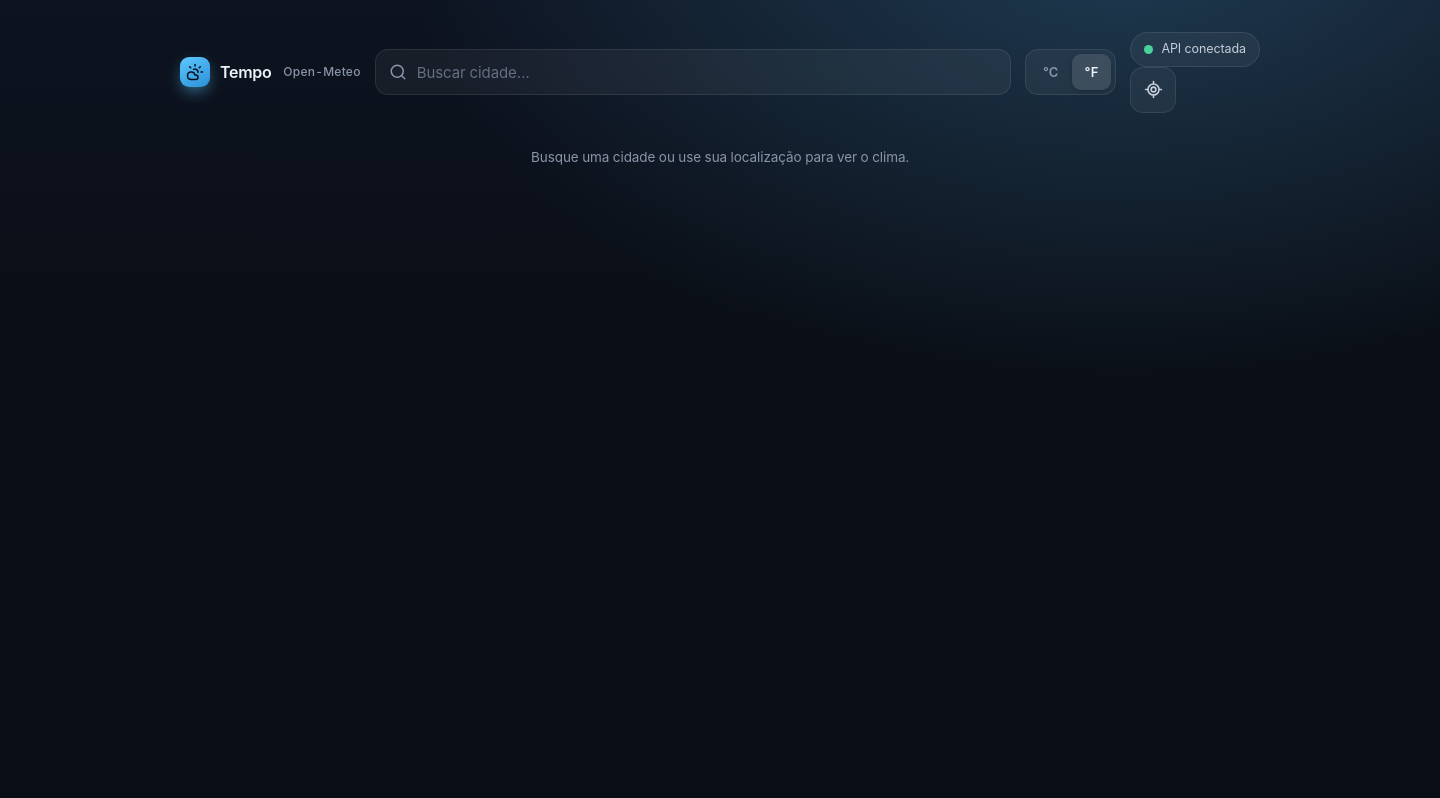
it: WeatherDashboardPage units toggle › toggles a loaded dashboard back to metric instantly
Type "London" into the dropdown at (707, 72), box [417,50,997,94]
Wait 240 ms
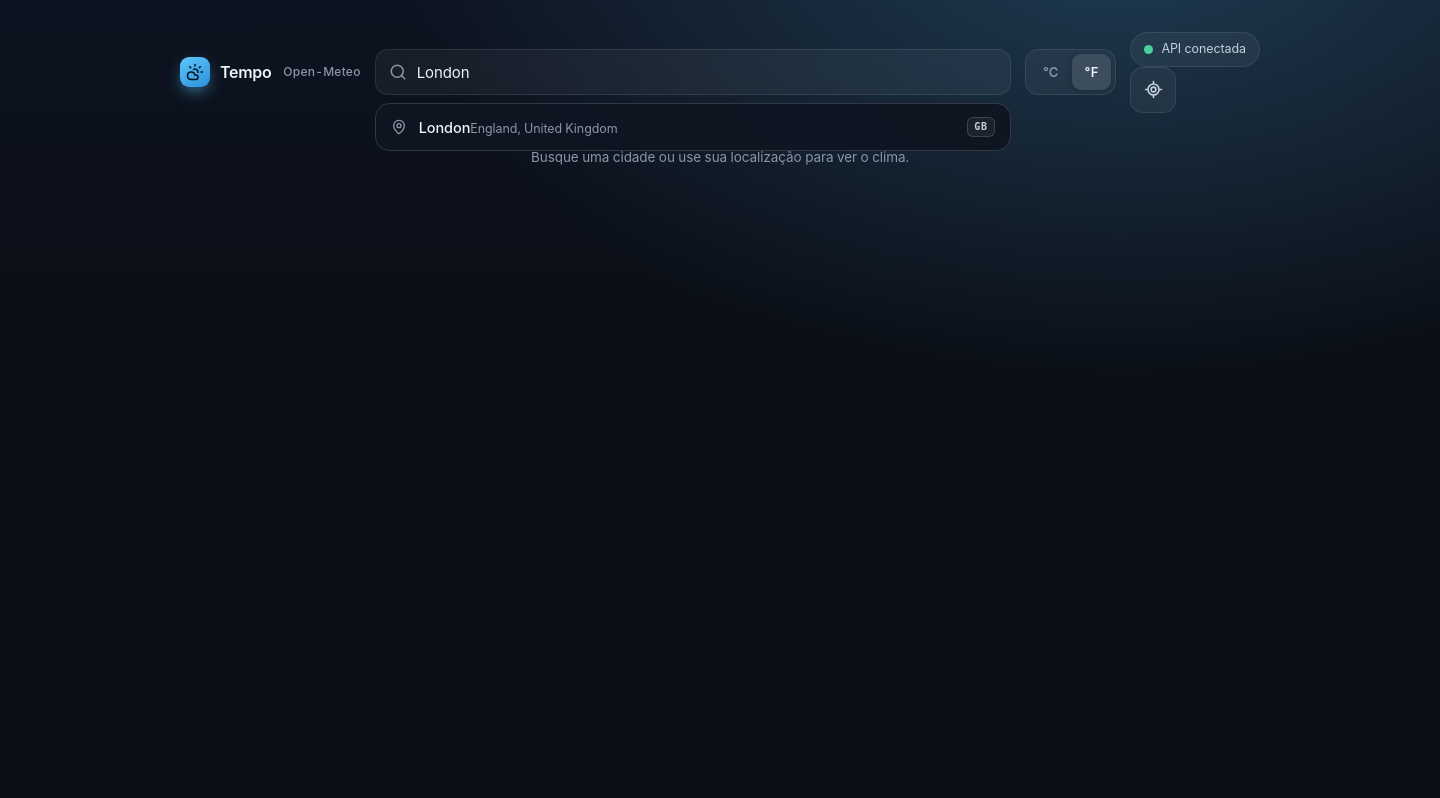
Press the mouse on the option at (444, 128), box [376,104,1010,150]
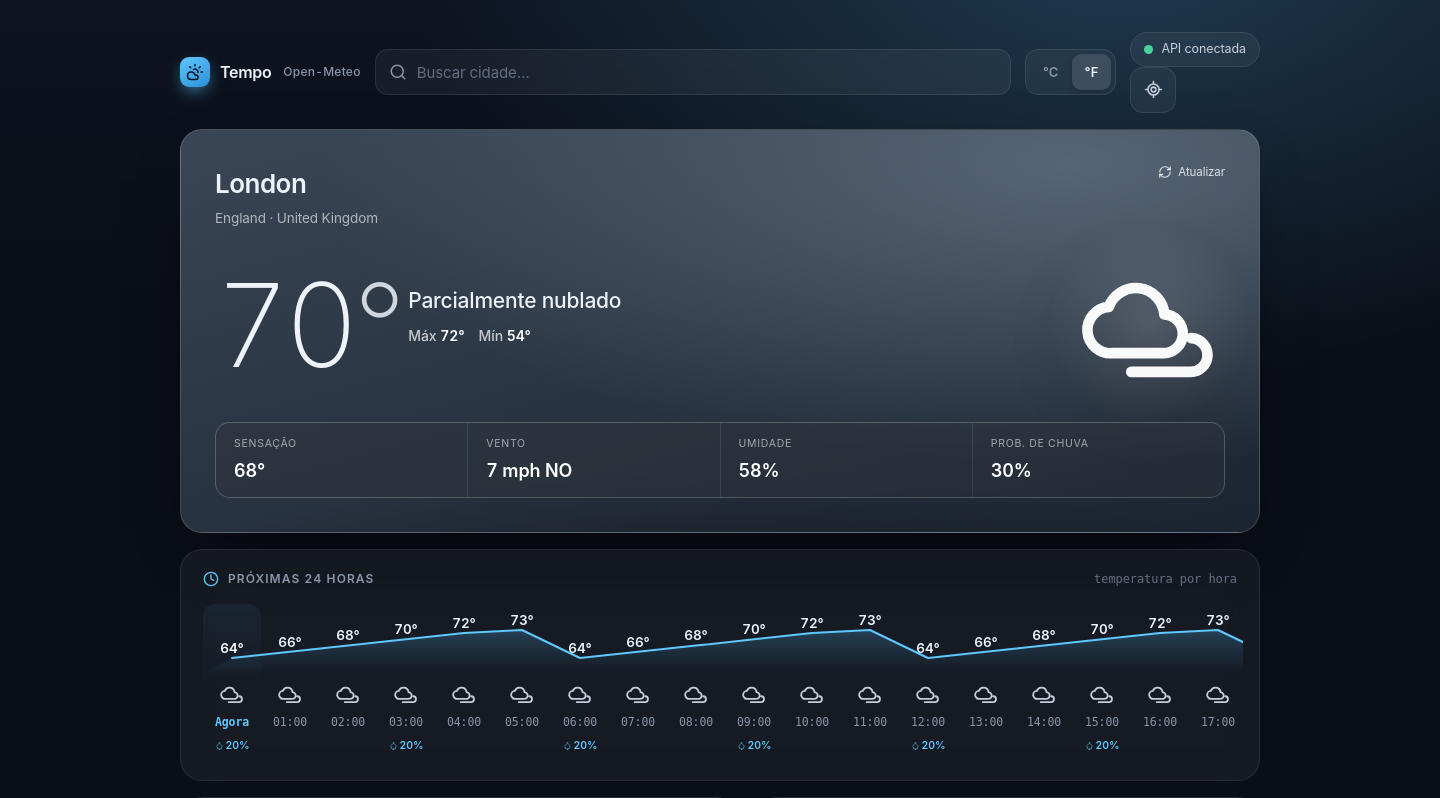
Click the button "°C" at (1051, 72), box [1030,54,1072,90]
(page scrolled)
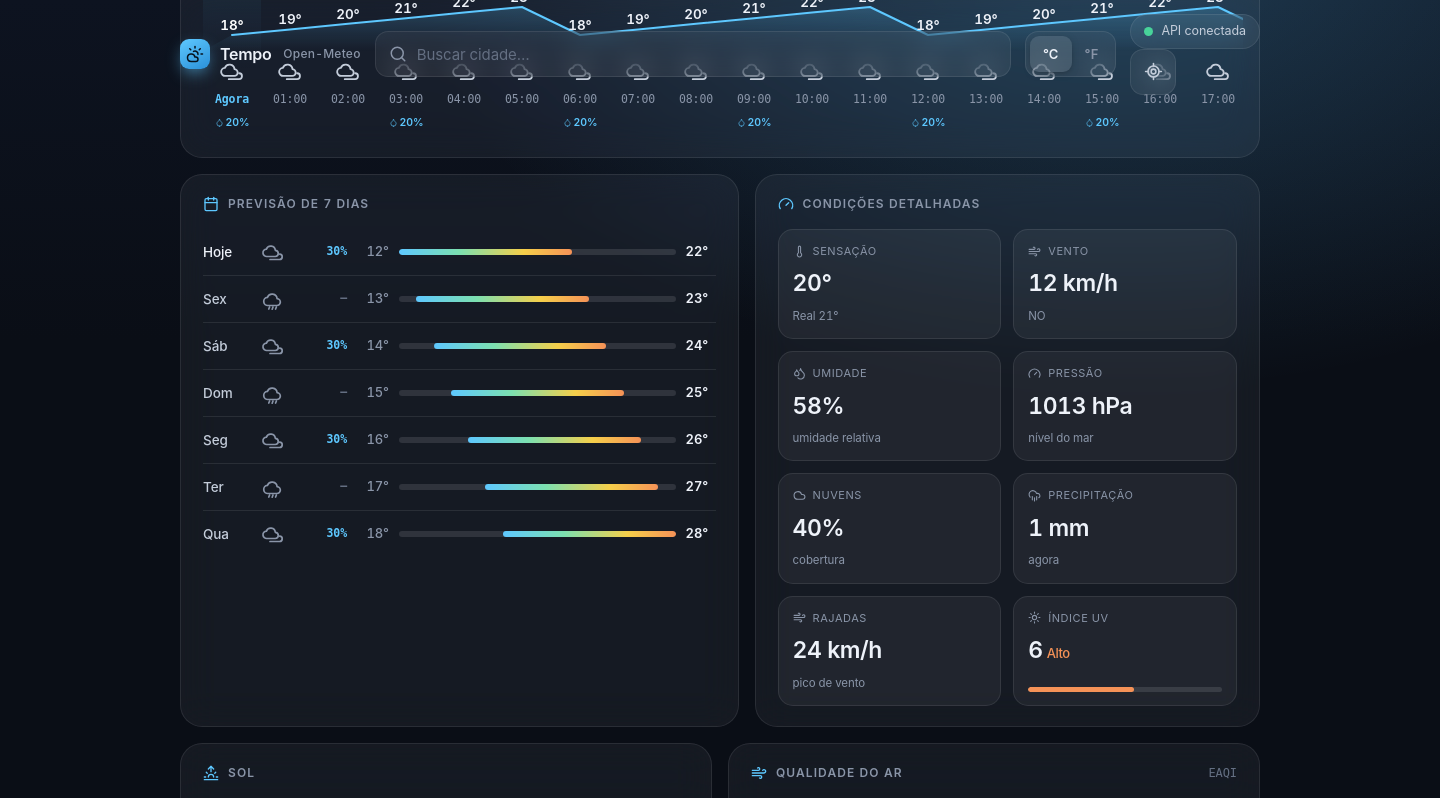
expect the text with class "wx-hg-temp" below "Próximas 24 horas" reads "18°": met, box [220,17,244,33]
expect the text "12°" is shown: met, box [366,243,389,259]
expect the text "1013 hPa" is shown: met, box [1028,392,1132,420]
